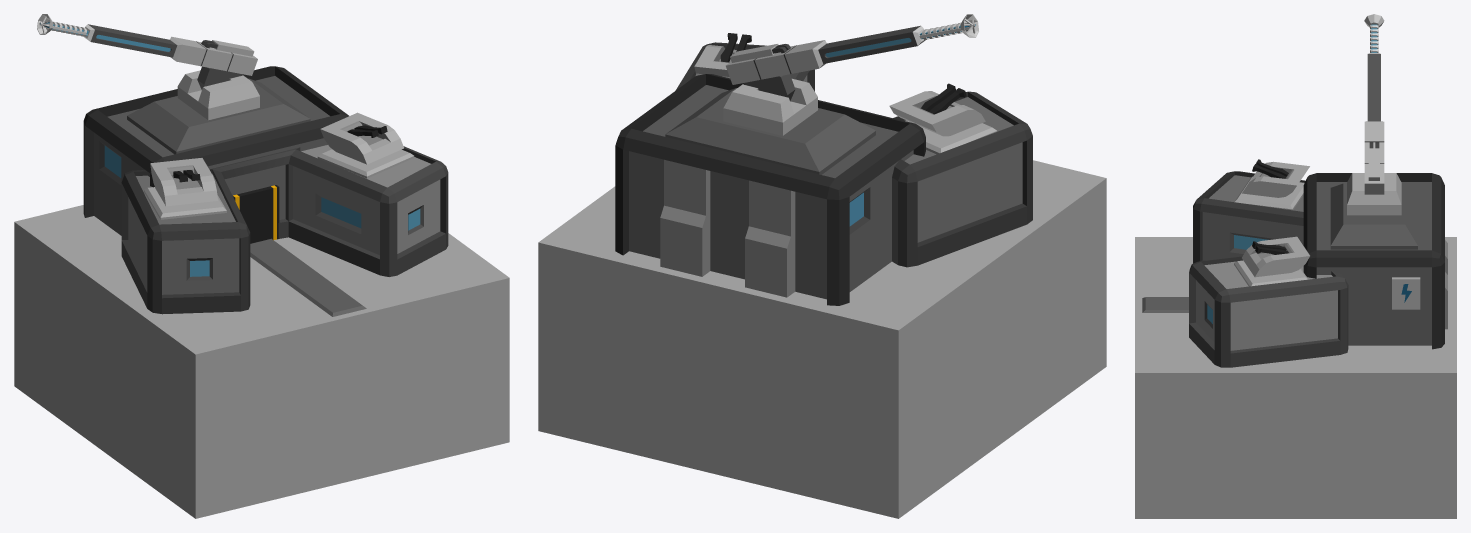
3 views of the same model, side by side, from view 1: azimuth 30°, elevation 25°; view 2: azimuth 150°, elevation 25°; view 3: azimuth 270°, elevation 25° (orthographic). The views are drawn at different scales.
Visible parts, largest first — view 1: Cube.004; view 2: Cube.004; view 3: Cube.004.
Boxes of the visible parts, x1,y1,x2,y2 form: Cube.004: (14,14,509,518); Cube.004: (538,14,1106,518); Cube.004: (1135,14,1456,518).
Size of the model in its own units: 213 by 249 by 200.
1 material, 1 textured.
